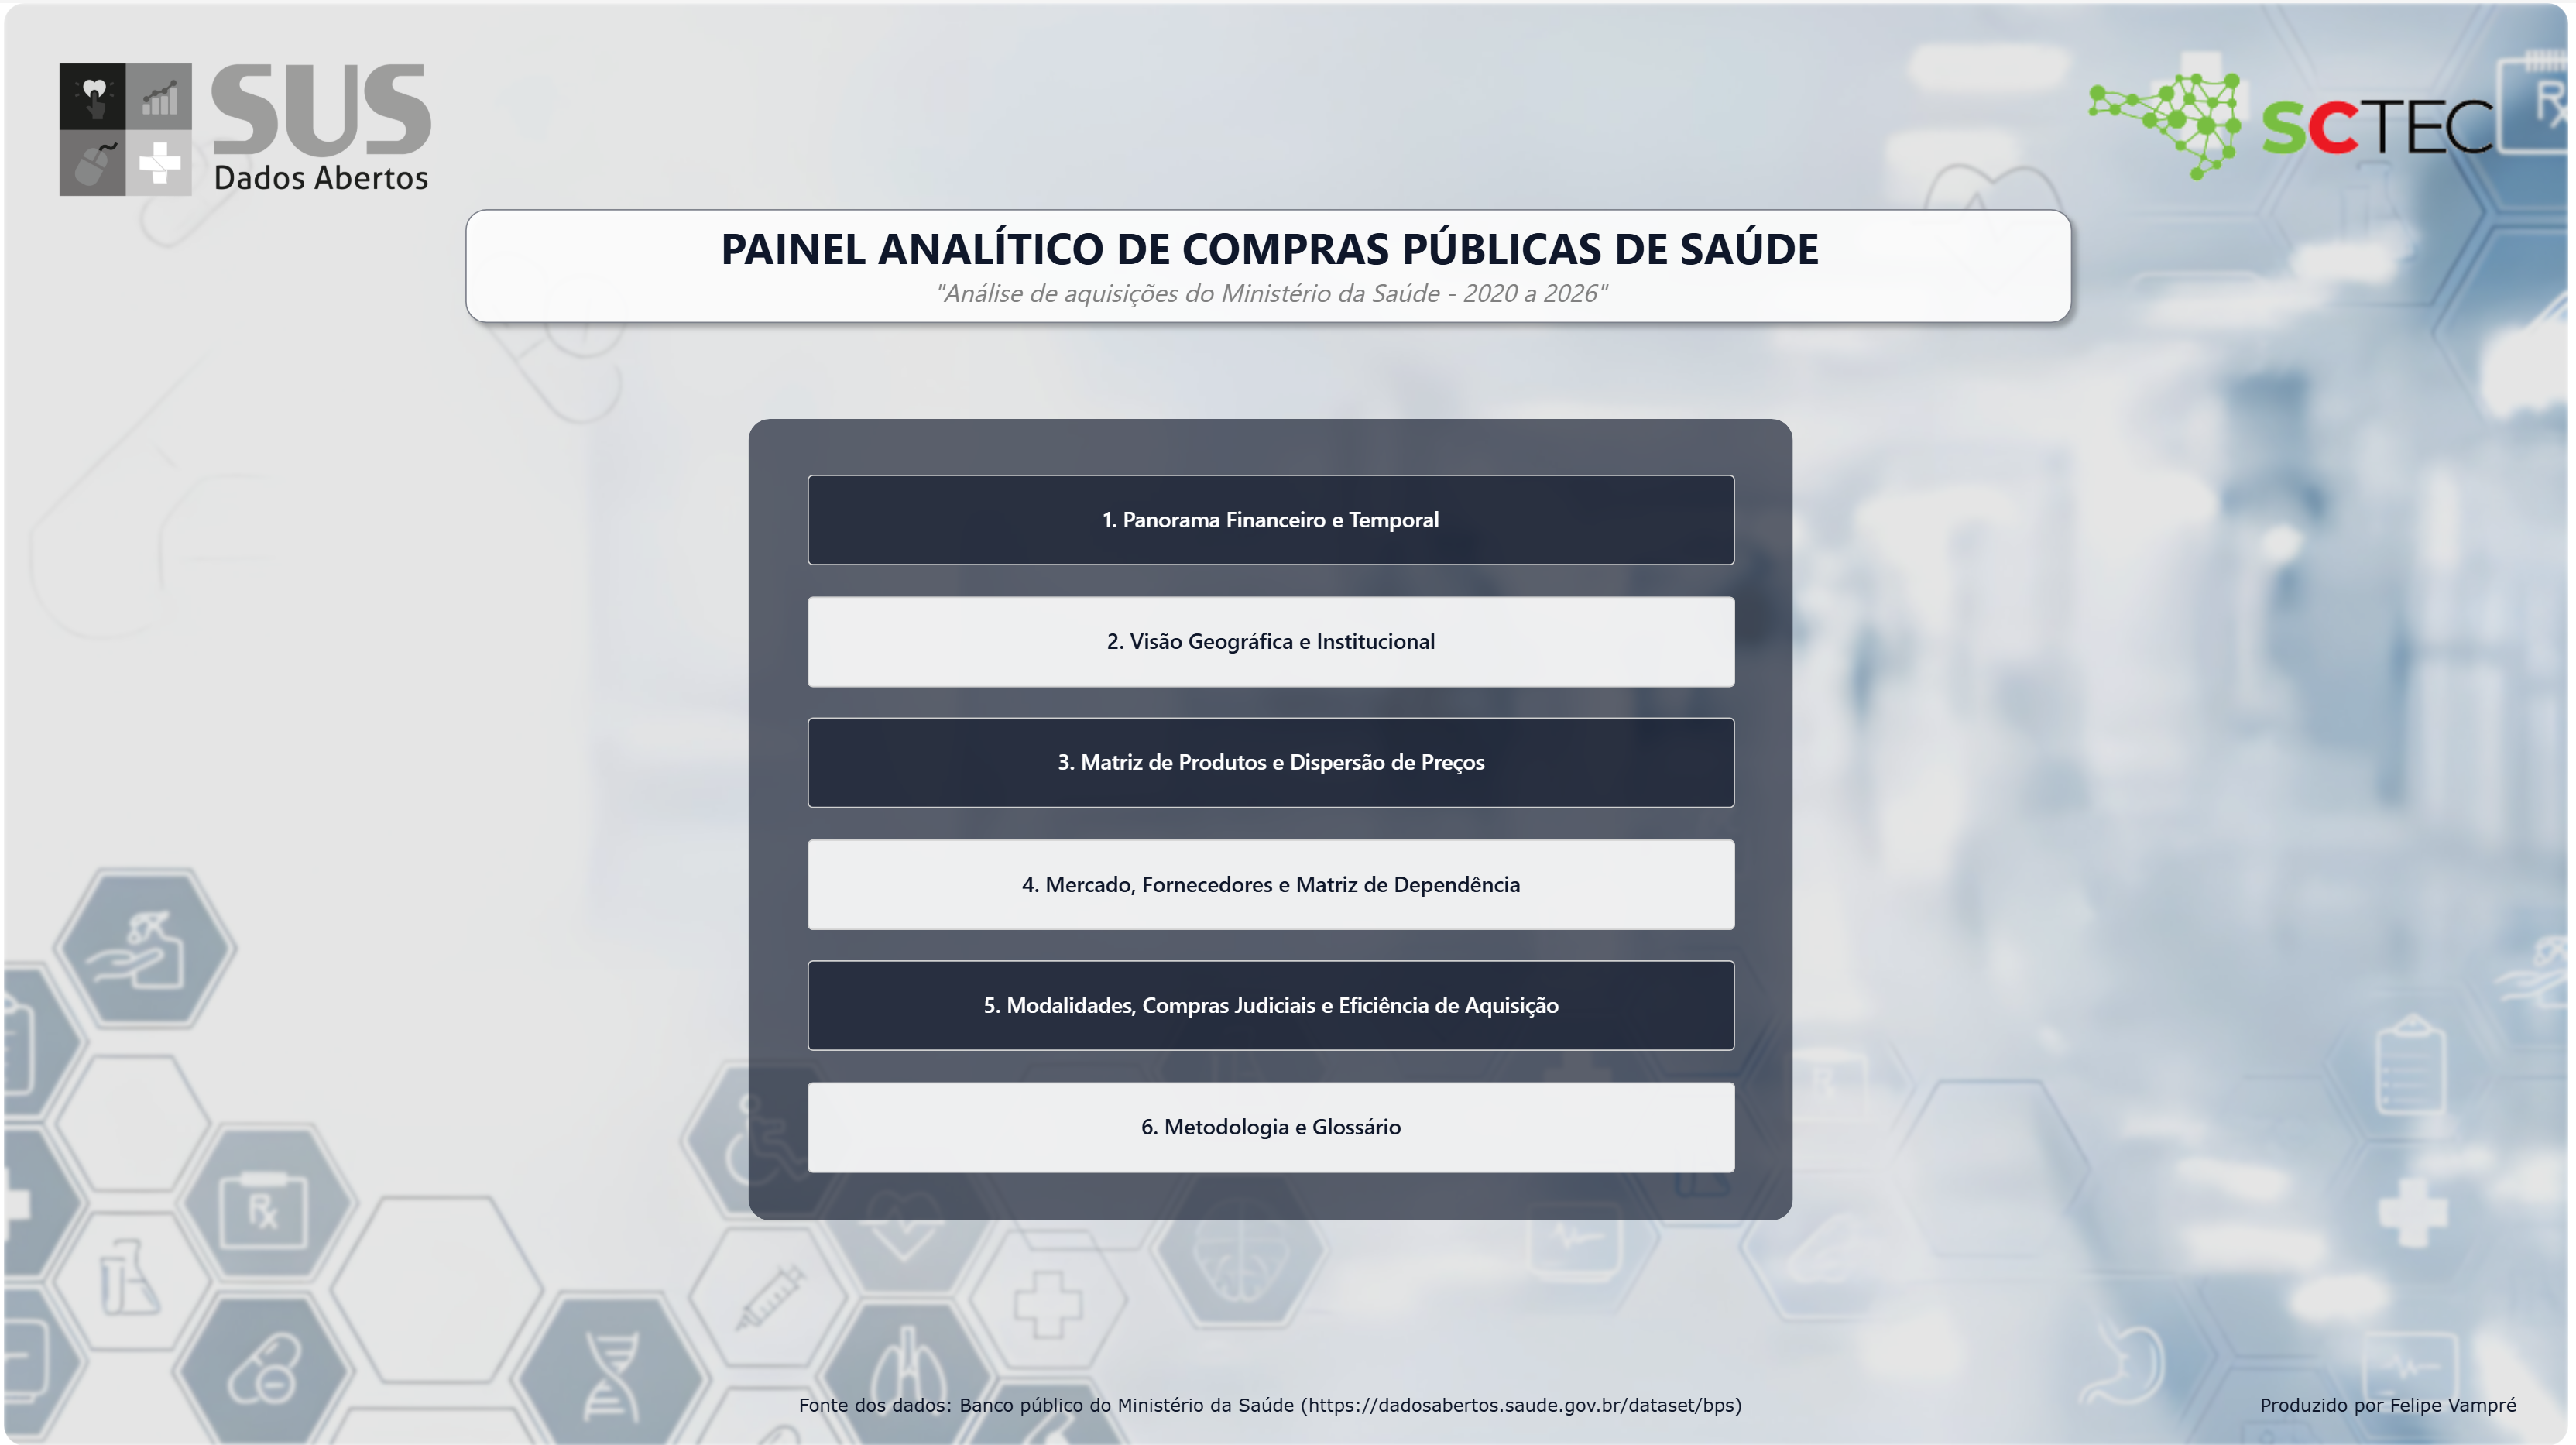

The dashboard page shown, as its layout file describes it:
{"tool":"powerbi","page":{"name":"Capa","canvas":[1920,1080],"ordinal":0},"visuals":[{"type":"image","box":[0,0,1920,1080],"z":0},{"type":"shape","box":[336.7,145.4,1221.1,103.3],"z":1000},{"type":"textbox","box":[387.8,160.9,1120,72.2],"z":2000},{"type":"shape","box":[557.8,311,782.2,600],"z":3000},{"type":"image","box":[1548.9,22.2,331.1,140],"z":4000},{"type":"image","box":[25.6,27.8,311.1,134.4],"z":5000},{"type":"textbox","box":[1681.1,1038.9,209,31],"z":6000},{"type":"actionButton","box":[601.7,353.3,694.4,67.8],"z":7000},{"type":"actionButton","box":[601.7,444.2,694.4,67.8],"z":8000},{"type":"actionButton","box":[601.7,535.1,694.4,67.8],"z":9000},{"type":"actionButton","box":[601.7,716.9,694.4,67.8],"z":10000},{"type":"actionButton","box":[601.7,626,694.4,67.8],"z":11000},{"type":"actionButton","box":[601.7,807.8,694.4,67.8],"z":12000},{"type":"textbox","box":[557.8,1038.9,782.2,31.1],"z":13000}]}

Visuals, with their boxes in screenshot pixels (x1, y1, x2, y2), scaled from the page's 1920x1080 canvas onto the 2576x1445 screenshot:
image: select_region(0, 0, 2575, 1444)
shape: select_region(451, 194, 2090, 333)
textbox: select_region(520, 215, 2023, 312)
shape: select_region(749, 416, 1798, 1219)
image: select_region(2078, 29, 2523, 217)
image: select_region(34, 37, 451, 217)
textbox: select_region(2255, 1390, 2536, 1432)
actionButton: select_region(808, 472, 1739, 564)
actionButton: select_region(808, 594, 1739, 685)
actionButton: select_region(808, 716, 1739, 807)
actionButton: select_region(808, 959, 1739, 1050)
actionButton: select_region(808, 838, 1739, 928)
actionButton: select_region(808, 1081, 1739, 1172)
textbox: select_region(749, 1390, 1798, 1432)
